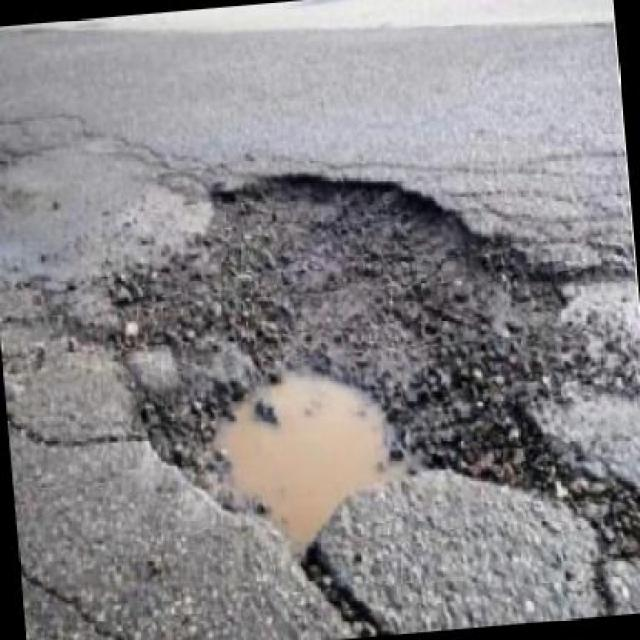pothole1: (92, 138, 600, 580)
